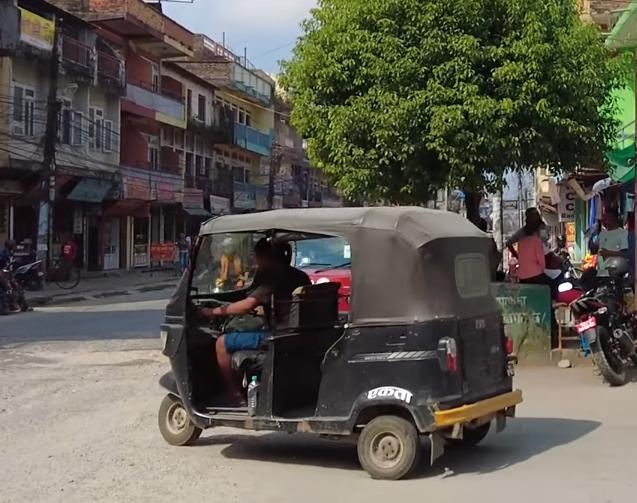auto_rickshaw: (153, 205, 526, 484)
bike: (558, 259, 637, 391)
